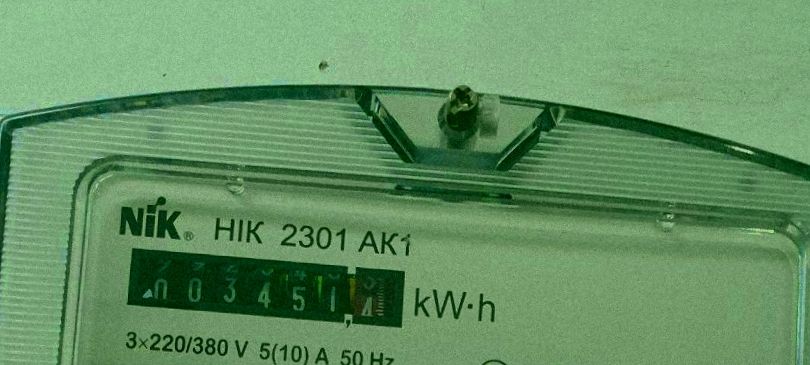0: (184, 274, 204, 303), (149, 273, 170, 300)
1: (323, 281, 341, 313)
3: (219, 272, 239, 304)
4: (252, 278, 274, 310), (355, 292, 376, 320)
5: (288, 281, 306, 313)
screen: (119, 242, 411, 335)
